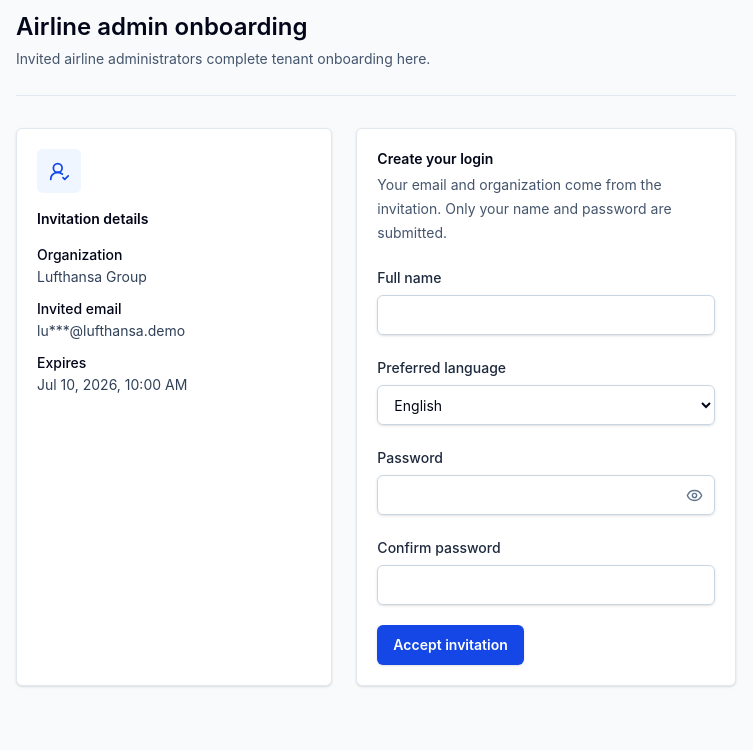
Test: InvitationAcceptPage › validates the accept form before submission
This screenshot has width=753, height=750.
(page scrolled)
Expected: the heading "Invitation details" is shown, [37, 210, 148, 227]
Click the button "Accept invitation".
click(451, 645)  # box [377, 625, 524, 665]
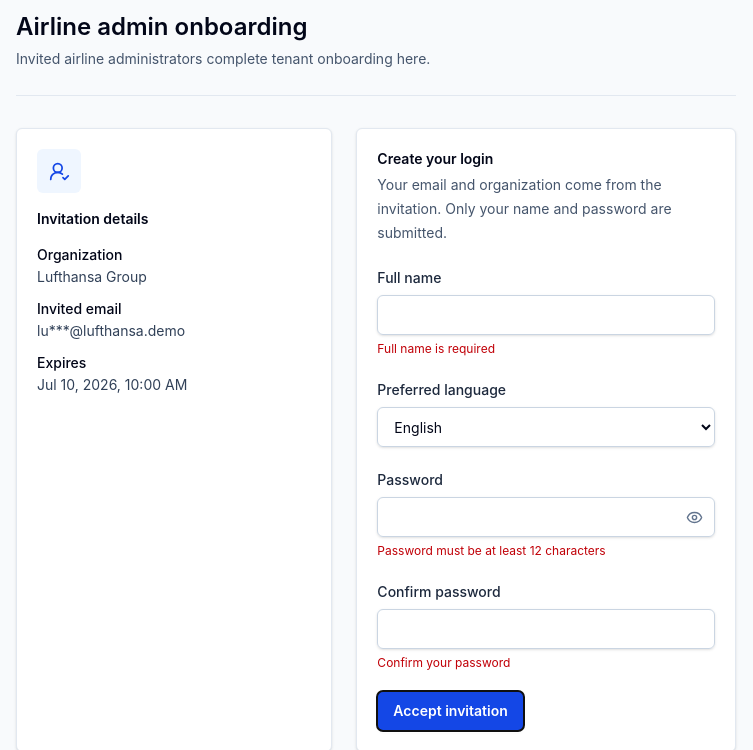
Expected: the text "Full name is required" is shown, [377, 341, 495, 356]
Expected: the text "Password must be at least 12 characters" is shown, [377, 543, 606, 558]
Expected: the text "Confirm your password" is shown, [377, 655, 510, 670]
